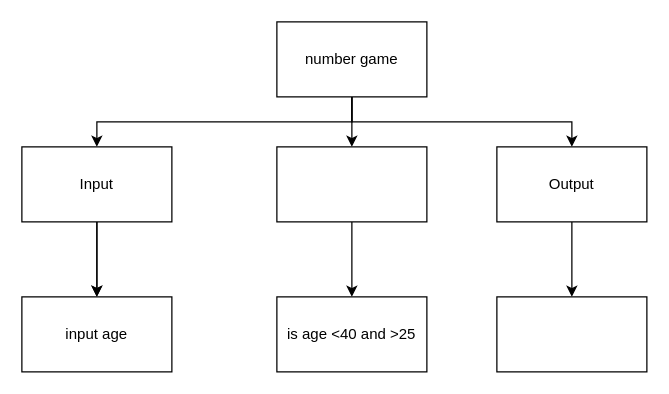
Some shapes in this 669 by 394 pixel diagram are drawn without their labels. Each missing label, with the centre of its shape:
"Process" belongs at [351,184].
"show answer" belongs at [571,334].
